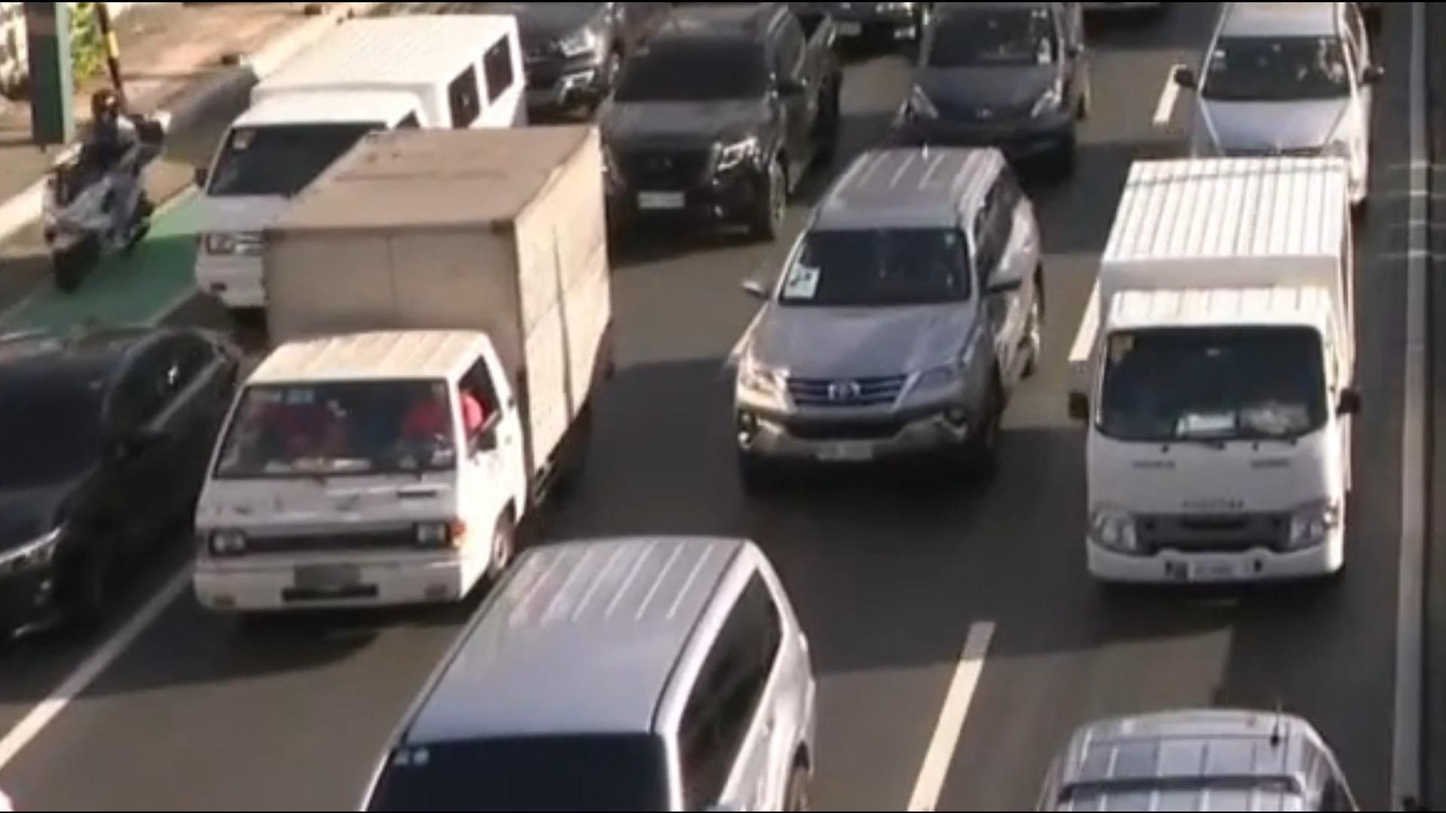Motorcycle: (0, 53, 194, 294)
Multicab: (1039, 142, 1412, 619), (141, 6, 556, 318)
Pickup: (579, 12, 874, 244)
SUV: (334, 525, 883, 813), (709, 128, 1085, 493), (1177, 0, 1407, 206), (900, 0, 1107, 169)
Sedan: (0, 303, 268, 675)
Truck: (168, 119, 644, 649)
